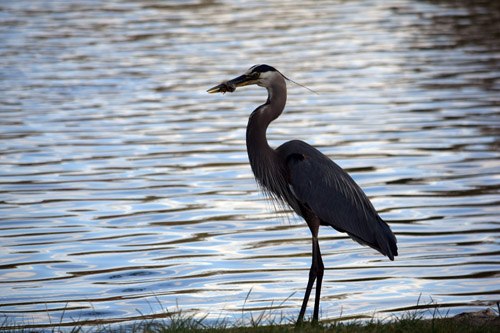heron: (207, 63, 399, 333)
